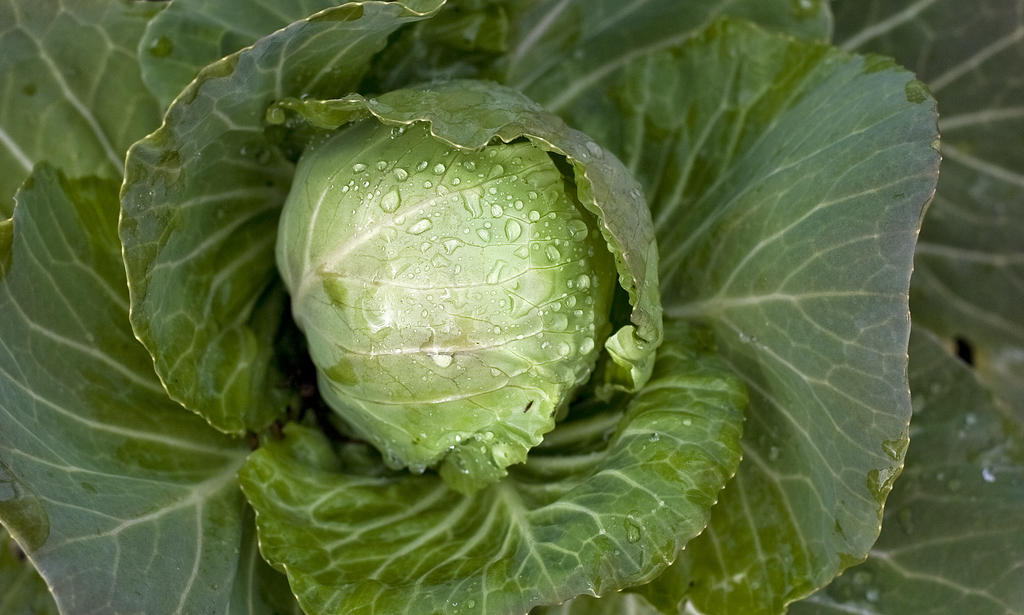Cabbage: (0, 0, 1023, 615)
